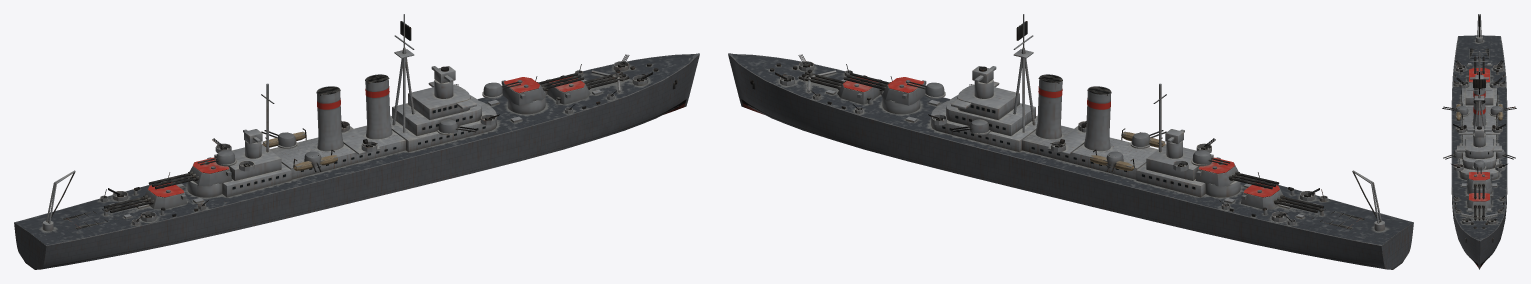
The model's file is fh_battle_e_cruiser.glb.
3 views of the same model, side by side, from view 1: azimuth 30°, elevation 25°; view 2: azimuth 150°, elevation 25°; view 3: azimuth 270°, elevation 25° (orthographic). The views are drawn at different scales.
Parts seen in each view (by area): view 1: cruiser, turret_2, turret_3, turret_4, turret_1; view 2: cruiser, turret_2, turret_3, turret_4, turret_1; view 3: cruiser, turret_2, turret_1, turret_4, turret_3, sec_4, sec_5, sec_1, sec_2, sec_3.
Boxes of the visible parts, <box> form: cruiser: <box>14,14,699,269</box>; turret_2: <box>501,72,584,105</box>; turret_3: <box>148,157,232,189</box>; turret_4: <box>104,181,186,212</box>; turret_1: <box>546,72,629,104</box>; cruiser: <box>728,14,1413,269</box>; turret_2: <box>843,72,926,105</box>; turret_3: <box>1195,157,1279,189</box>; turret_4: <box>1241,181,1323,212</box>; turret_1: <box>798,72,881,104</box>; cruiser: <box>1451,14,1507,269</box>; turret_2: <box>1465,172,1493,199</box>; turret_1: <box>1465,193,1493,220</box>; turret_4: <box>1465,56,1493,80</box>; turret_3: <box>1467,62,1491,82</box>; sec_4: <box>1490,106,1516,115</box>; sec_5: <box>1442,106,1468,115</box>; sec_1: <box>1473,160,1485,173</box>; sec_2: <box>1496,149,1515,159</box>; sec_3: <box>1443,149,1462,159</box>.
Bounding box in the file's own units: 1 × 0.2299 × 0.1453.
2 materials, 2 textured.
